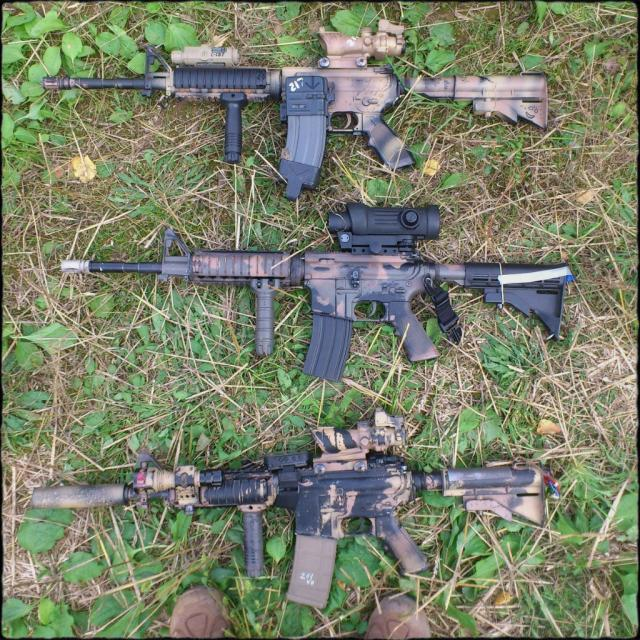firearm: (30, 406, 548, 611), (41, 17, 549, 203), (60, 202, 568, 384)
